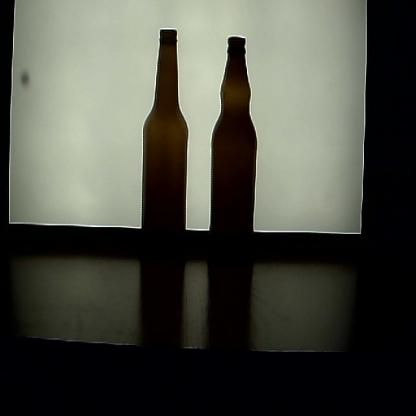Can: (207, 35, 261, 282), (140, 26, 191, 270)
